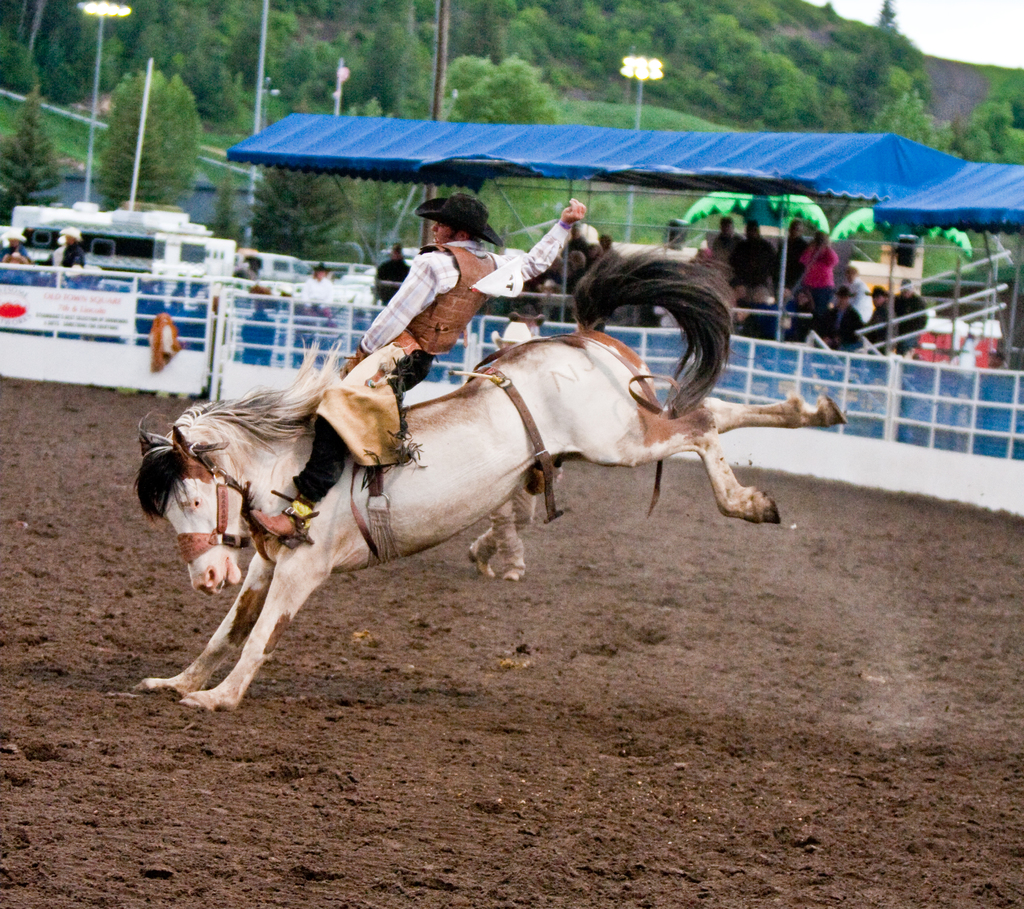horse: (131, 240, 847, 714)
